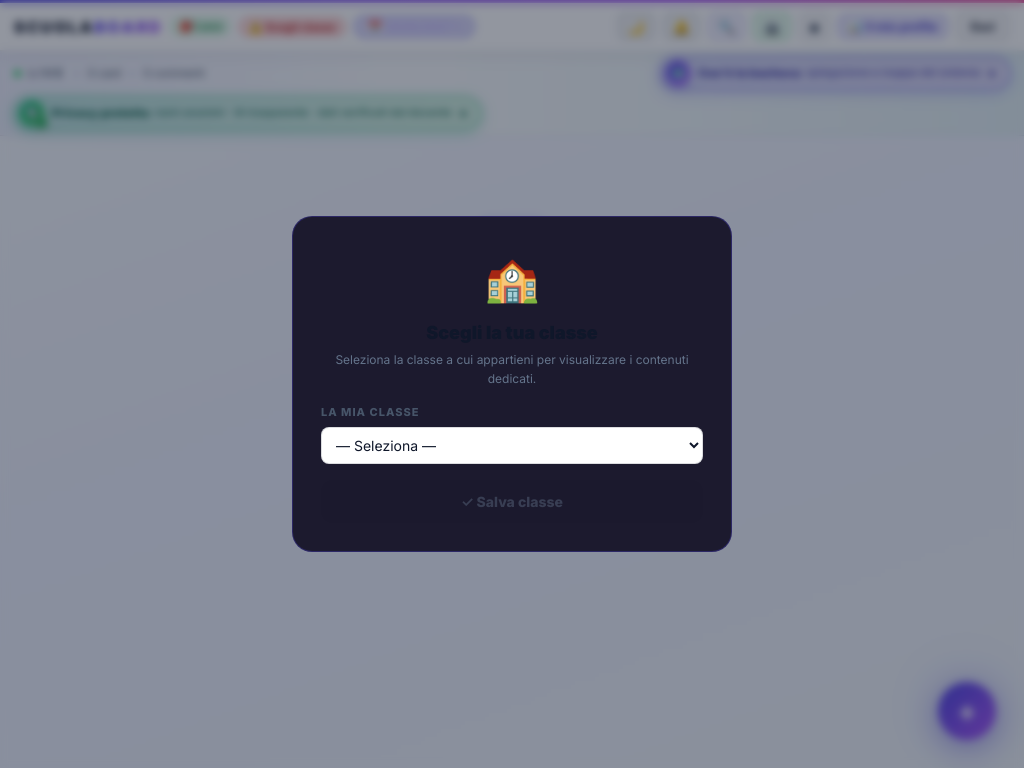
Scelta classe studente (ClasseModal) › salvataggio fallito (rete giù) → la modale resta aperta e mostra un errore esplicito
The image size is (1024, 768).
Select "3AI" in the dropdown named "Scegli la tua classe" at (512, 445), box [321, 427, 703, 464]
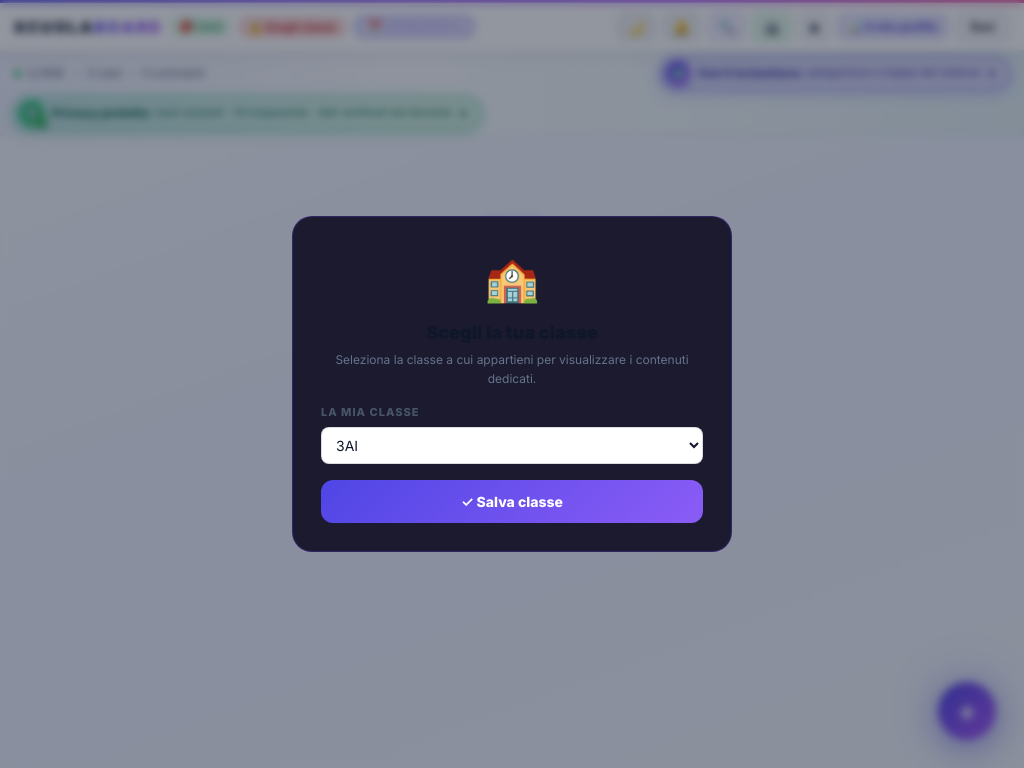
Expected: the button "✓ Salva classe" is enabled
Click the button "✓ Salva classe" at (512, 501), box [321, 480, 703, 523]
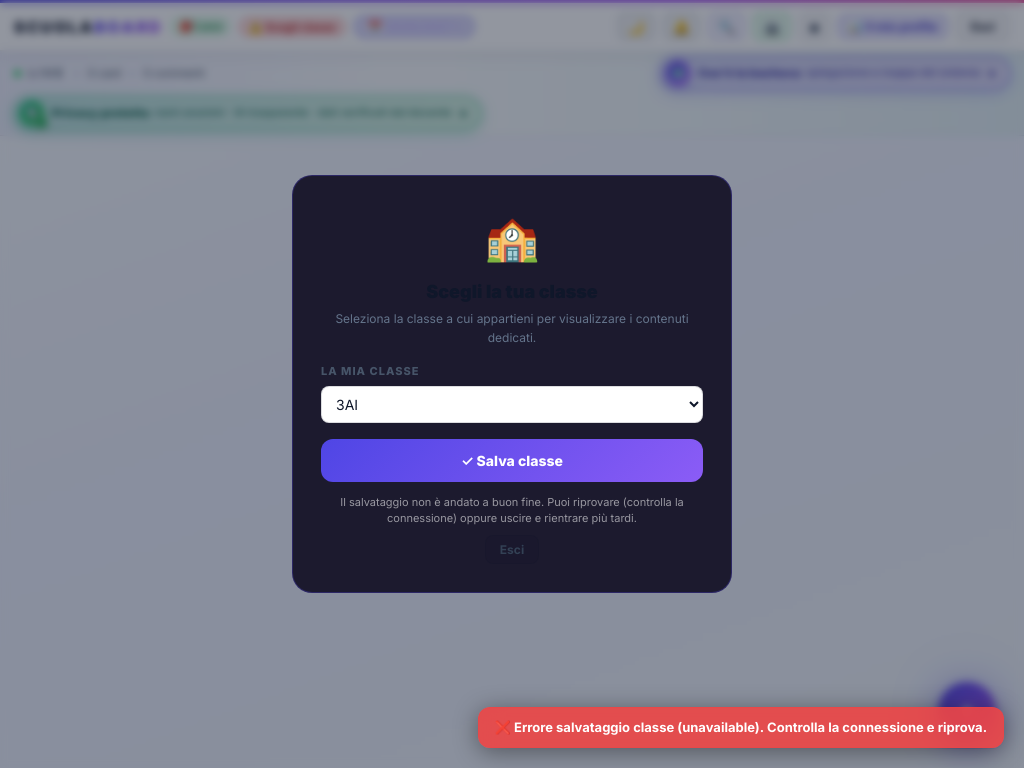
Expected: the button "✓ Salva classe" is shown, [321, 439, 703, 482]
Expected: the text "Errore salvataggio classe" is shown, [514, 718, 987, 734]
